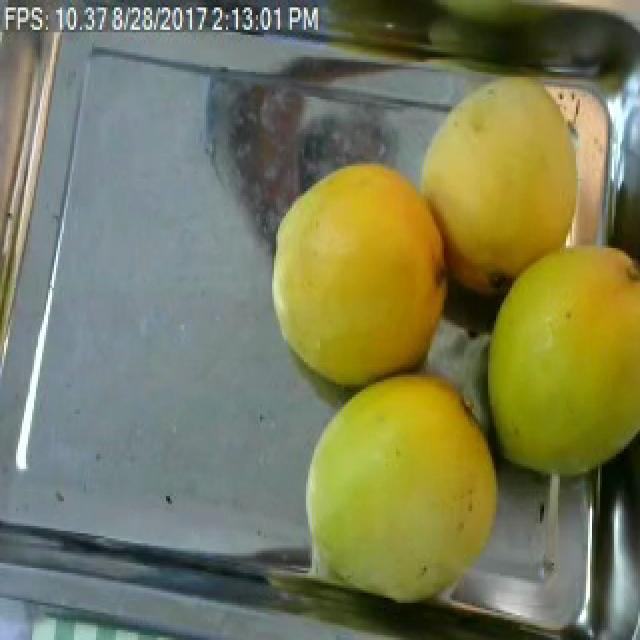fruit: (288, 354, 526, 628), (258, 149, 468, 404), (402, 62, 620, 303), (460, 231, 640, 491), (398, 0, 640, 42)
